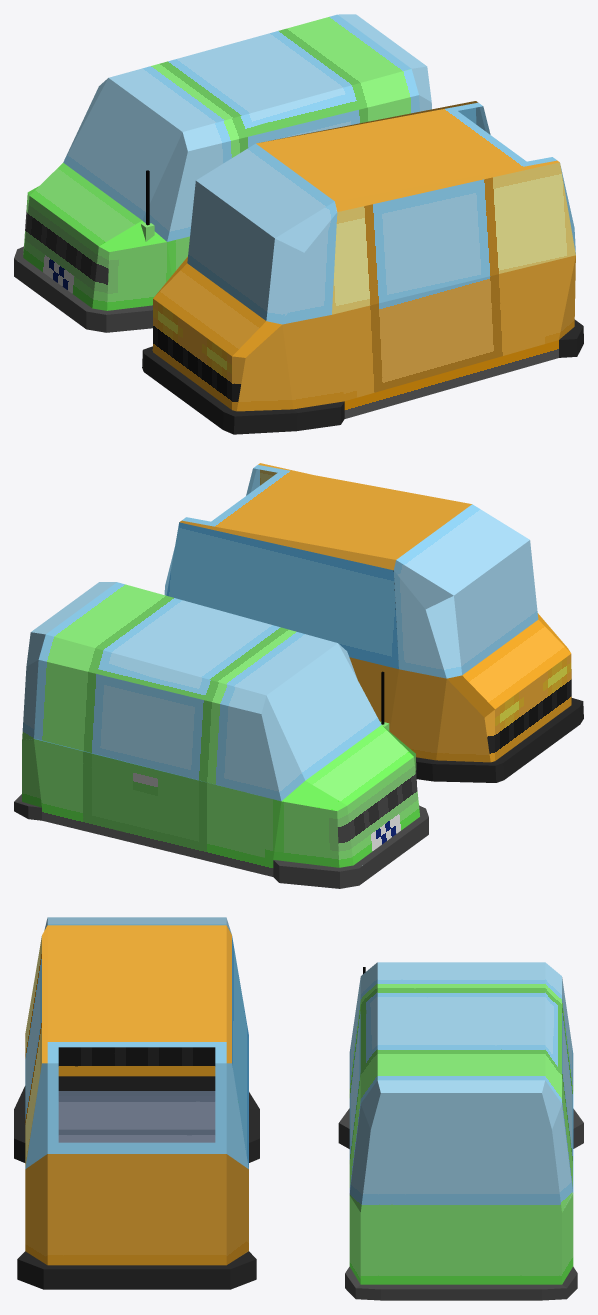
The model's file is car.gltf.
3 renders of one model, top to bottom at view 1: azimuth 30°, elevation 25°; view 2: azimuth 150°, elevation 25°; view 3: azimuth 270°, elevation 25°, orthographic. The views are drawn at different scales.
Visible parts, largest first — view 1: cube (×2); view 2: cube (×2); view 3: cube (×2).
Boxes of the visible parts, x1,y1,x2,y2 form: cube (×2): [14, 14, 583, 434]; cube (×2): [14, 463, 583, 888]; cube (×2): [14, 917, 583, 1300].
Bounding box in the file's own units: 2.63 × 1.47 × 3.19.
Materials: 3 (3 with a texture image).
